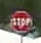stop: (8, 9, 32, 32)
